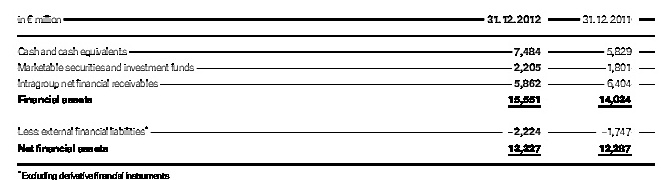table: (0, 0, 665, 180)
